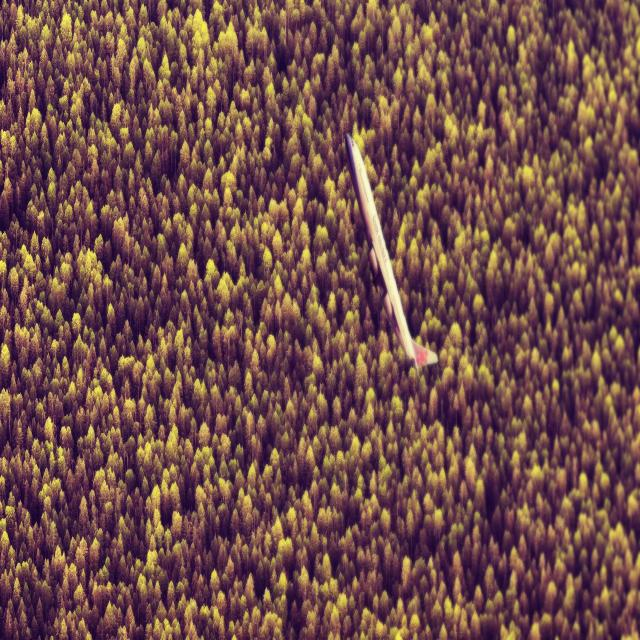airplane: (344, 132, 438, 372)
